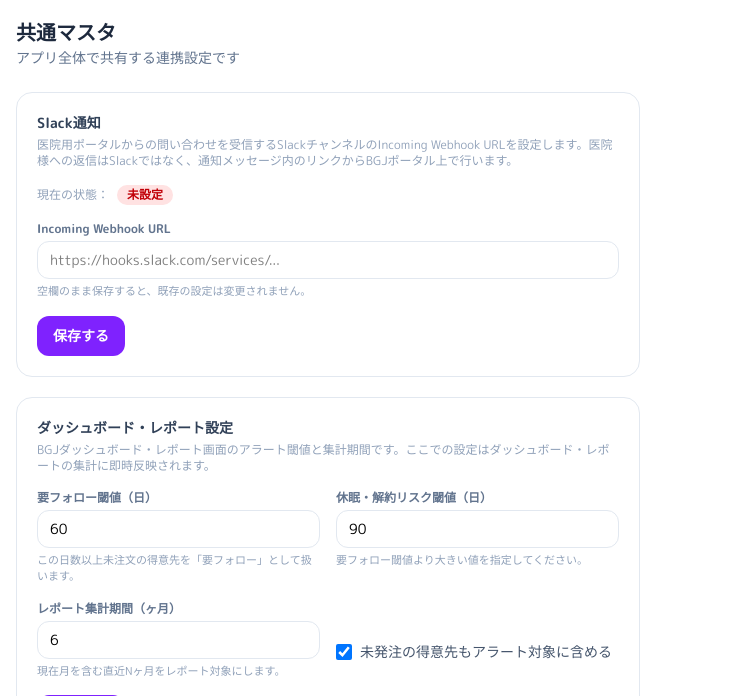
Scenario: BgjSystemSettingsPage › ダッシュボード・レポート設定を保存するとPATCHで4項目を送信する
Expected: the text "未設定" is shown, 117,185 -> 173,205
Step 1. Replace the text in the number field showing "60" below "要フォロー閾値（日）" with "30" → (178, 528), box 37,510 -> 320,548
(page scrolled)
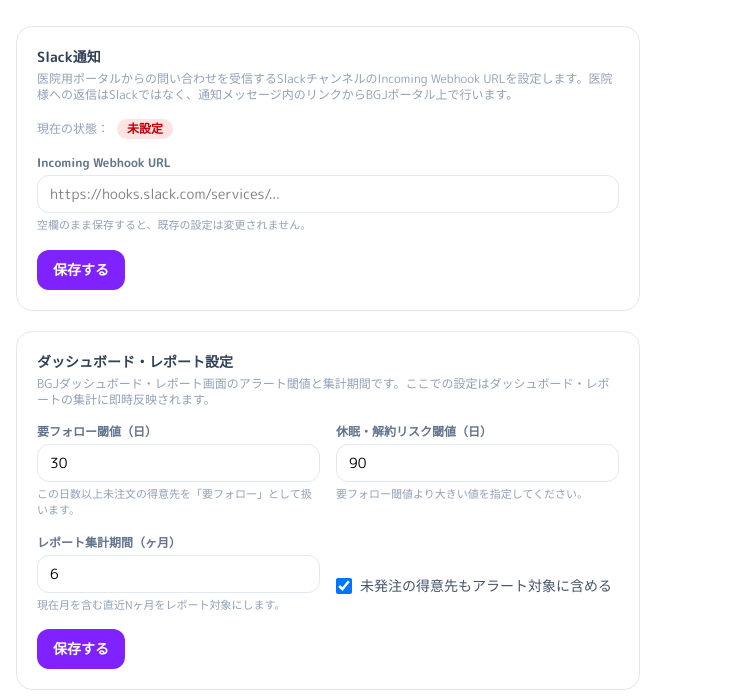
Step 2. Click the button "保存する" below "現在月を含む直近Nヶ月をレポート対象にします。" → (81, 649), box 37,629 -> 125,669
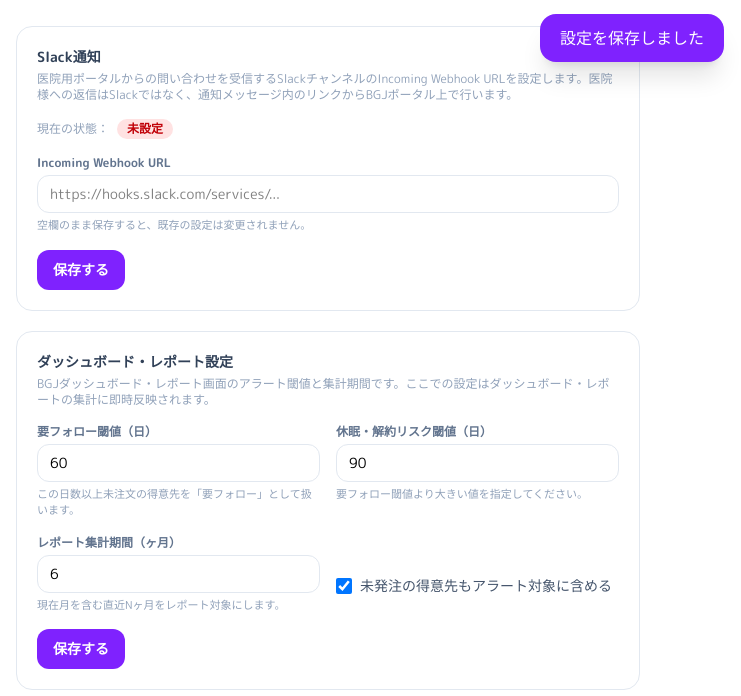
Now the text "設定を保存しました" is shown, box 540,14 -> 724,62
